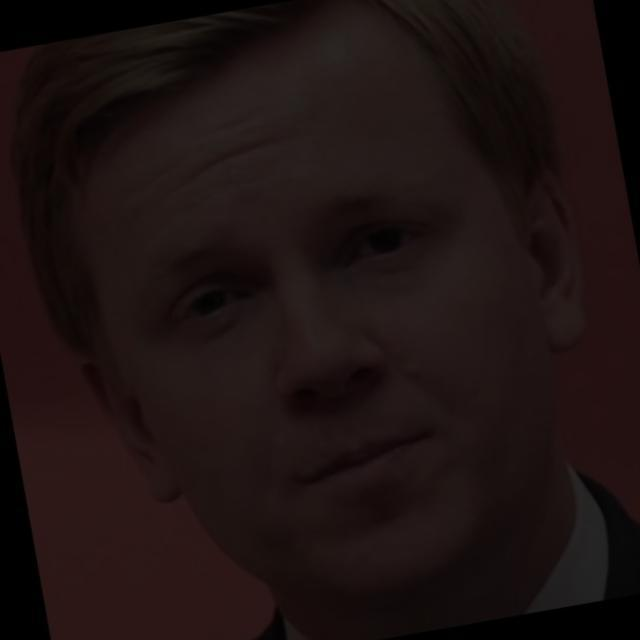Natural: (95, 107, 525, 579)
